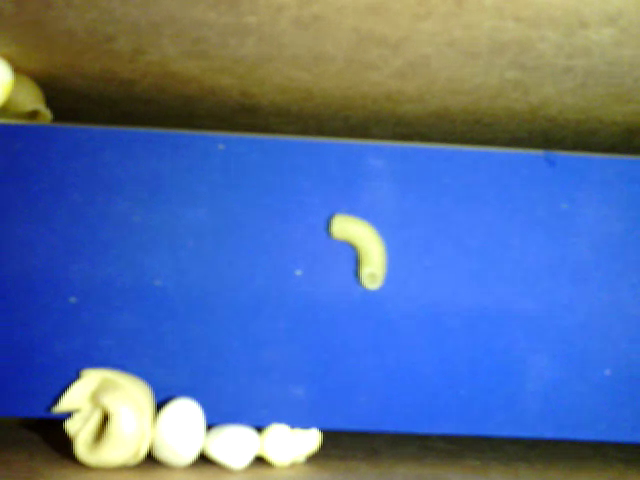elbow: (331, 213, 390, 290)
shell: (2, 67, 53, 125)
tortellini: (50, 367, 152, 470)
